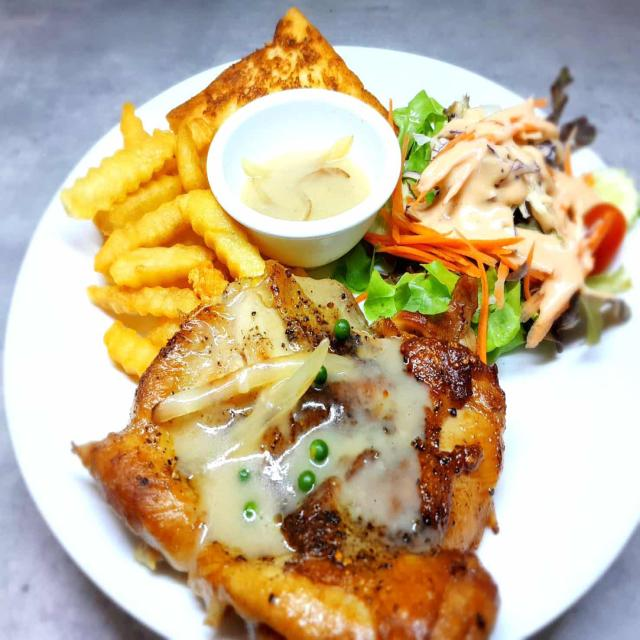Carbohydrate: (59, 6, 396, 372)
Steak: (20, 6, 640, 640), (73, 263, 505, 640)
Vegetable: (348, 67, 640, 357)
